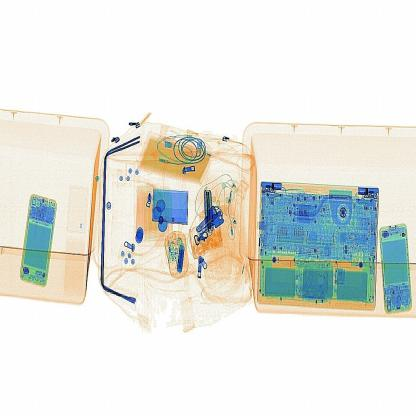scissors: (198, 176, 226, 241)
